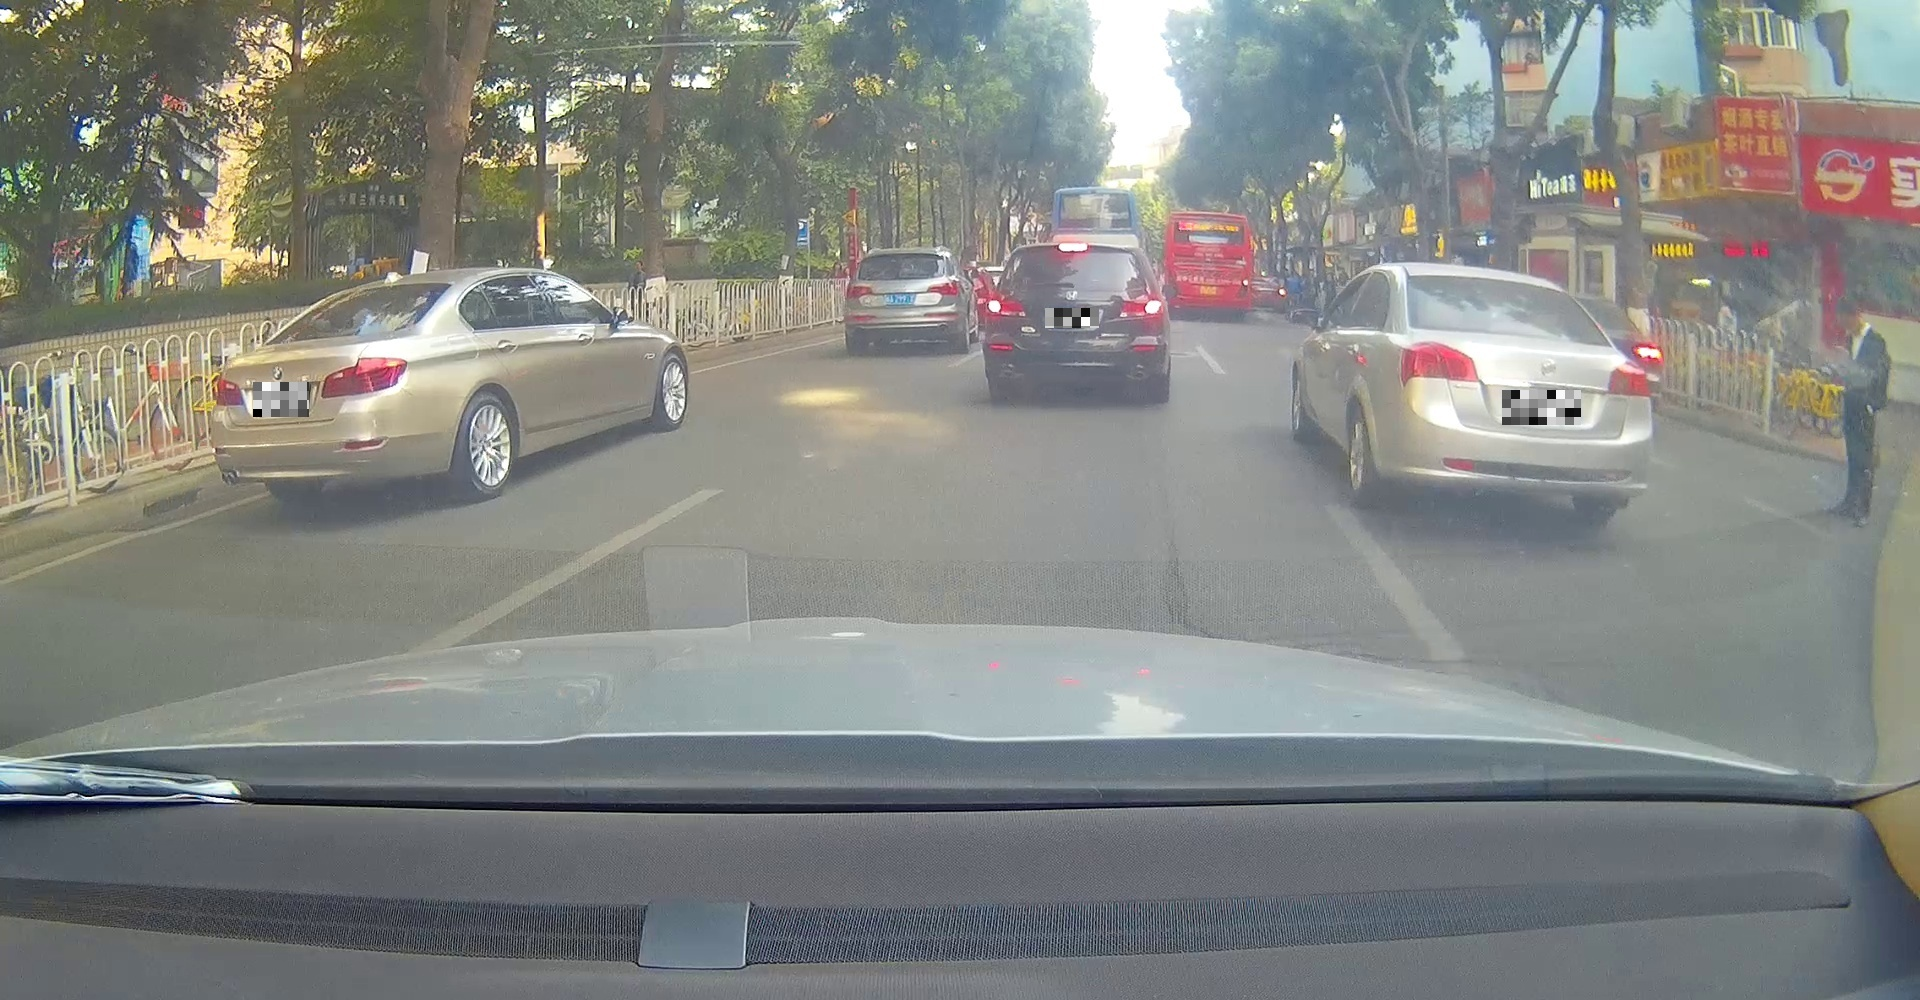L_light: (1399, 340, 1479, 390), (985, 293, 1025, 316), (215, 377, 245, 406), (844, 280, 872, 299)
R_light: (320, 357, 408, 398), (1605, 360, 1651, 398), (1119, 293, 1164, 317), (926, 280, 959, 296)
T_light: (1486, 279, 1517, 291), (1059, 242, 1088, 253), (370, 288, 392, 297), (891, 253, 909, 258)
day-brake: (982, 242, 1167, 402)
day-no: (1397, 264, 1653, 527), (210, 268, 455, 501), (843, 249, 961, 355)
plate_1: (253, 382, 309, 418)
plate_2: (1045, 308, 1098, 327)
plate_3: (1502, 390, 1581, 425)
